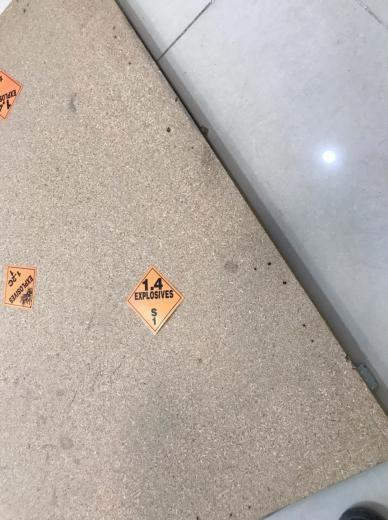explosive: (126, 267, 184, 333), (4, 266, 38, 309), (1, 68, 23, 121)
